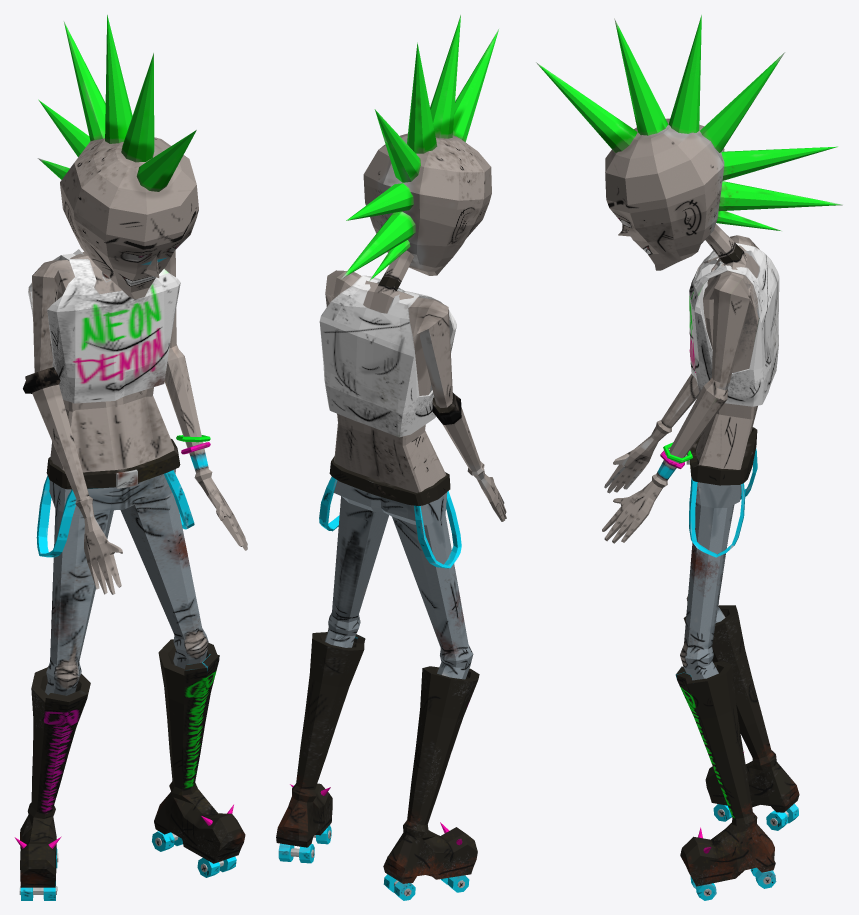
File: punkAnimation_000021.obj
3 views of the same model, side by side, from view 1: azimuth 30°, elevation 25°; view 2: azimuth 150°, elevation 25°; view 3: azimuth 270°, elevation 25° (orthographic). The views are drawn at different scales.
Visible parts, largest first — view 1: Cube.004_Cube.003; view 2: Cube.004_Cube.003; view 3: Cube.004_Cube.003.
Boxes of the visible parts, bbox=[...] form: Cube.004_Cube.003: bbox=[14, 15, 247, 900]; Cube.004_Cube.003: bbox=[276, 15, 506, 900]; Cube.004_Cube.003: bbox=[536, 15, 842, 900].
Size of the model in its own units: 1.83 by 7.45 by 2.52.
